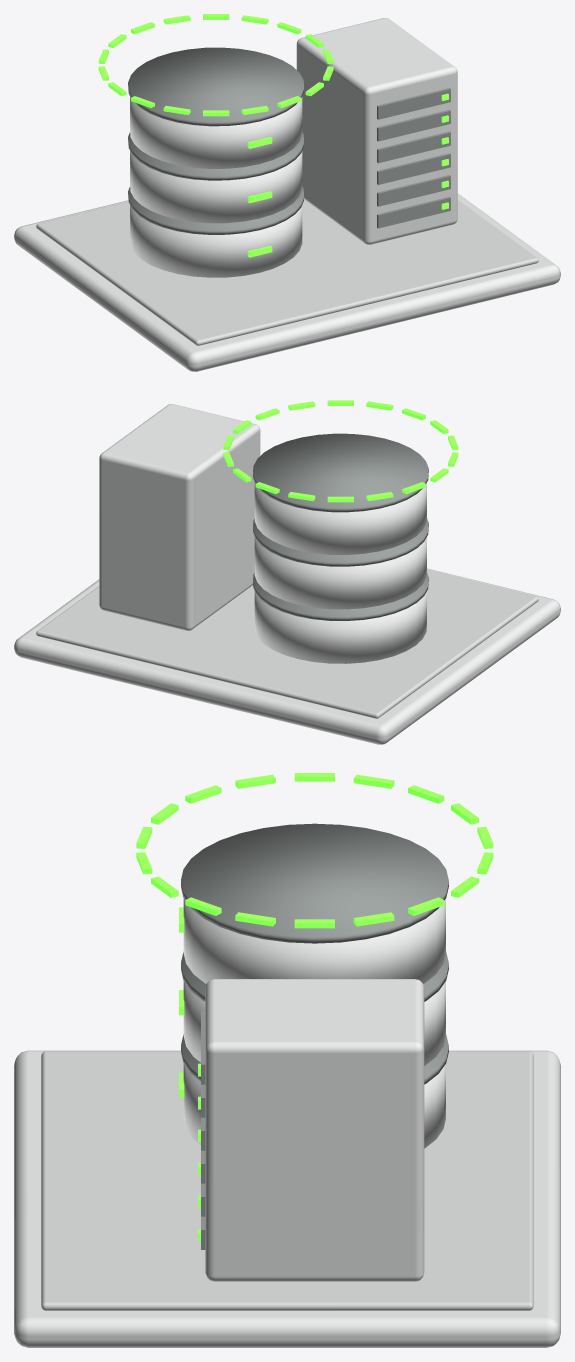
The model's file is component-retrieval.glb.
3 views of the same model, one above another, from view 1: azimuth 30°, elevation 25°; view 2: azimuth 150°, elevation 25°; view 3: azimuth 270°, elevation 25° (orthographic). The views are drawn at different scales.
Visible parts, largest first — view 1: retrieval_paving, index_rack, retrieval_podium, db_band_2, db_tier_1, db_tier_0, db_tier_2, db_band_1, db_band_0, index_slot_1, index_slot_3, index_slot_4 (+3 smaller); view 2: index_rack, retrieval_paving, retrieval_podium, db_band_2, db_tier_1, db_tier_0, db_tier_2, db_band_1, db_band_0; view 3: retrieval_paving, index_rack, retrieval_podium, db_band_2, db_tier_2, db_tier_1, db_tier_0, db_band_1, db_band_0.
Part boxes in pixels (x1,y1,x2,y2): retrieval_paving: (36,199,538,345); index_rack: (296,18,457,244); retrieval_podium: (14,193,560,371); db_band_2: (128,47,303,126); db_tier_1: (130,151,302,223); db_tier_0: (130,205,302,277); db_tier_2: (130,97,302,168); db_band_1: (128,132,303,180); db_band_0: (128,187,303,234); index_slot_1: (377,175,450,206); index_slot_3: (377,131,450,163); index_slot_4: (377,109,450,141); index_rack: (99,404,260,630); retrieval_paving: (36,570,538,718); retrieval_podium: (14,568,560,744); db_band_2: (253,433,428,512); db_tier_1: (254,537,426,609); db_tier_0: (254,591,426,663); db_tier_2: (254,483,426,554); db_band_1: (253,518,428,566); db_band_0: (253,573,428,620); retrieval_paving: (41,1051,533,1310); index_rack: (205,979,424,1281); retrieval_podium: (14,1050,560,1347); db_band_2: (181,823,448,943); db_tier_2: (183,899,445,983); db_tier_1: (183,981,445,1065); db_tier_0: (183,1064,445,1148); db_band_1: (181,952,448,1001); db_band_0: (181,1034,448,1084).
Size of the model in its own units: 3.6 by 1.93 by 3.
